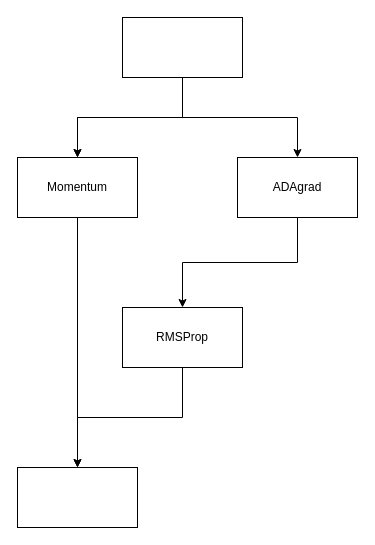
Image size: 375x545. Some labels were removed from this diagram. Each missing label, with the centre of its shape:
"ADAM" belongs at (x=77, y=497).
"Stochastic GD" belongs at (x=182, y=47).
